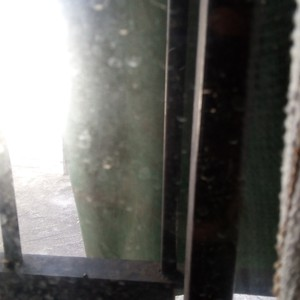out: (1, 1, 298, 300)
